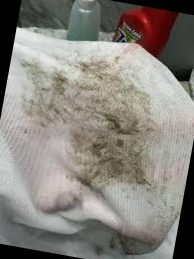earth: (62, 67, 166, 188)
